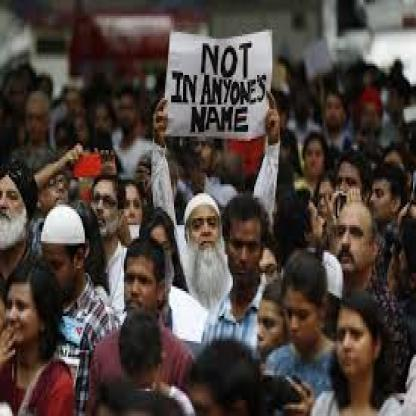BANNER: (162, 30, 274, 152)
